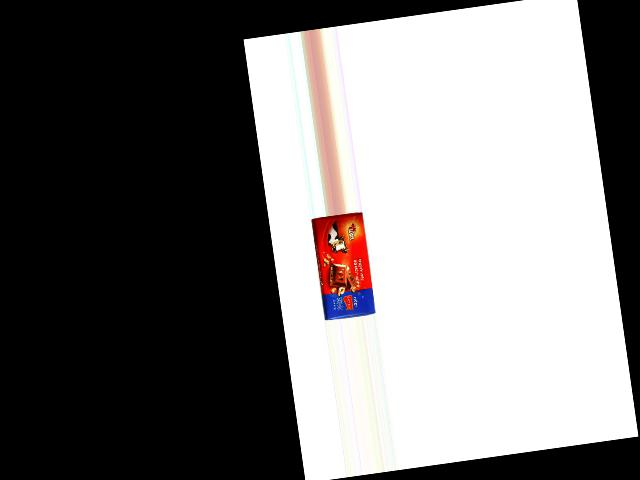chocolate: (306, 212, 375, 320)
